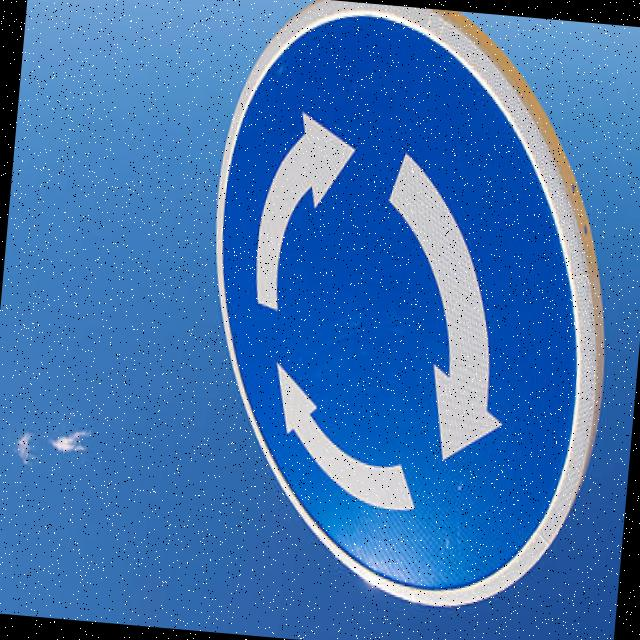round_about: (171, 0, 625, 637)
